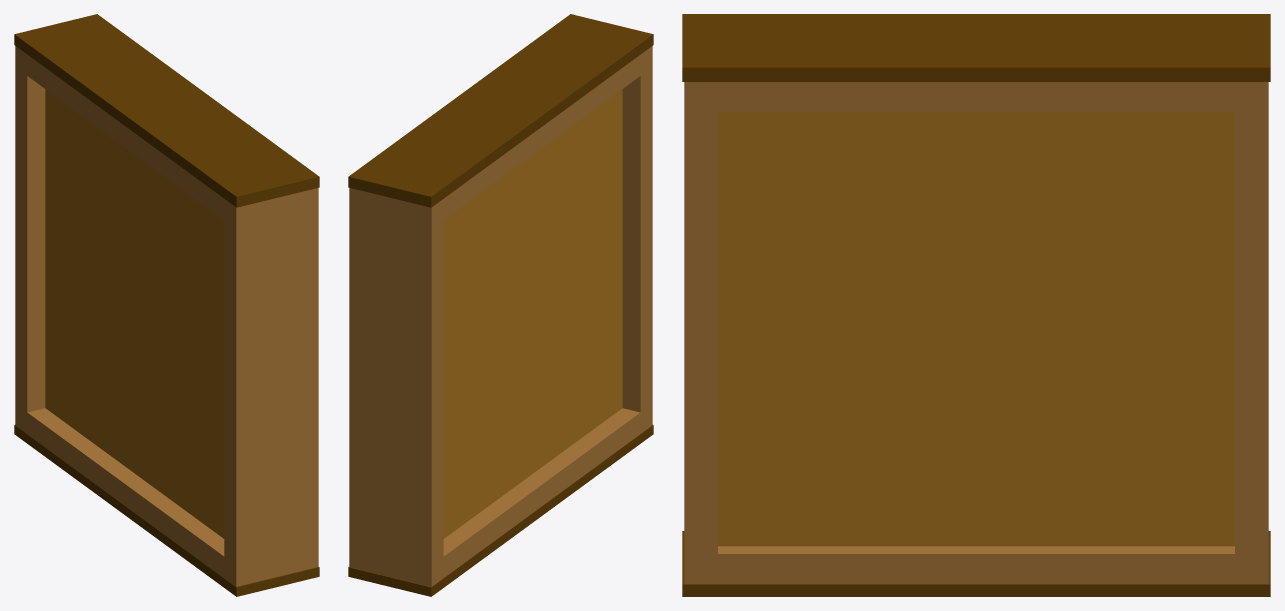
The model's file is koek.fbx.
3 views of the same model, side by side, from view 1: azimuth 30°, elevation 25°; view 2: azimuth 150°, elevation 25°; view 3: azimuth 270°, elevation 25° (orthographic). The views are drawn at different scales.
Visible parts, largest first — view 1: Cube; view 2: Cube; view 3: Cube.
Boxes of the visible parts, x1=… form: Cube: x1=14, y1=14, x2=319, y2=596; Cube: x1=348, y1=14, x2=653, y2=596; Cube: x1=682, y1=14, x2=1270, y2=596.
Size of the model in its own units: 43.38 by 200 by 201.
